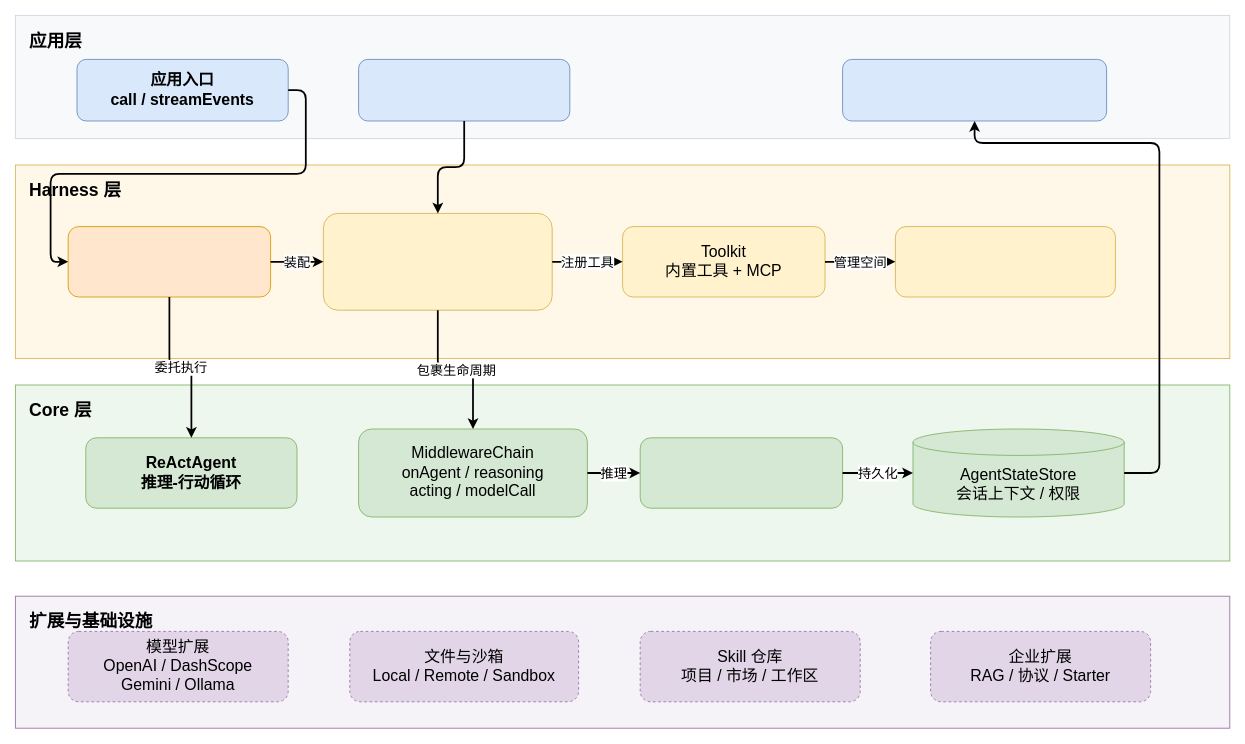
Some shapes in this 1245 by 744 pixel diagram are drawn without their labels. The centre of each missing label's shape, as x and y in pixels:
"HarnessAgent 用户侧装配器" belongs at (x=169, y=261).
"Middleware Stack workspace / memory skill / subagent" belongs at (x=437, y=261).
"Model.stream 增量输出解析" belongs at (x=741, y=472).
"RuntimeContext userId / sessionId" belongs at (x=464, y=90).
"WorkspaceManager 文件 / 状态空间" belongs at (x=1005, y=261).
"事件流 / 最终 Msg AgentEvent + AgentResult" belongs at (x=974, y=90).
